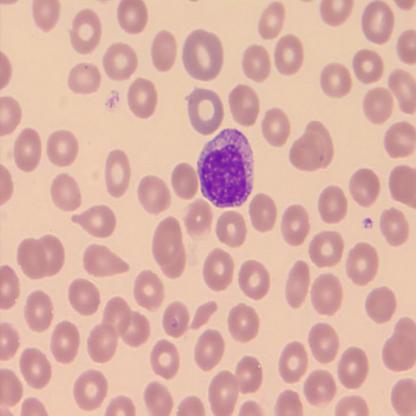Metamyelocyte: (194, 126, 257, 212)
